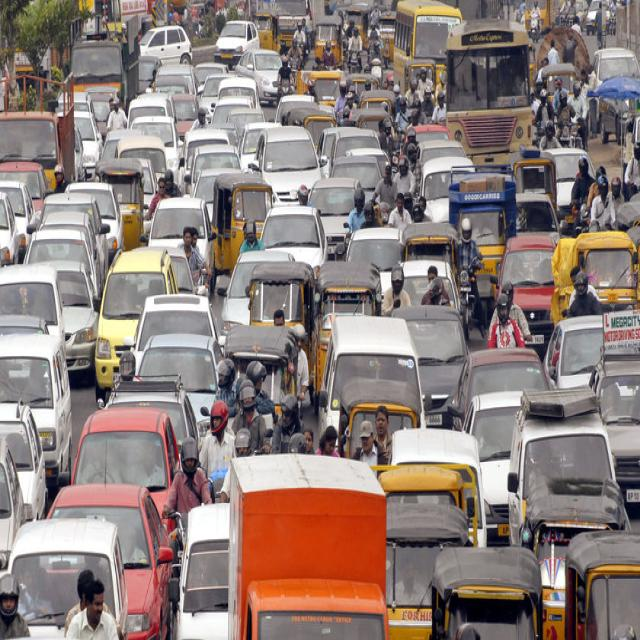autorickshaw: (314, 261, 380, 393), (249, 261, 315, 365), (212, 174, 274, 271)
bus: (446, 20, 531, 163), (394, 0, 461, 89)
car: (53, 484, 172, 640), (509, 386, 616, 544), (95, 249, 178, 393), (319, 319, 421, 432), (72, 407, 180, 512), (0, 335, 71, 485), (392, 306, 468, 429), (462, 390, 521, 545), (138, 335, 222, 440), (590, 357, 640, 507), (498, 235, 556, 356), (220, 249, 294, 336), (51, 261, 100, 373), (261, 206, 328, 269), (235, 49, 281, 104), (215, 20, 260, 67), (140, 25, 191, 63)
truck: (0, 76, 75, 189), (70, 16, 140, 103)
